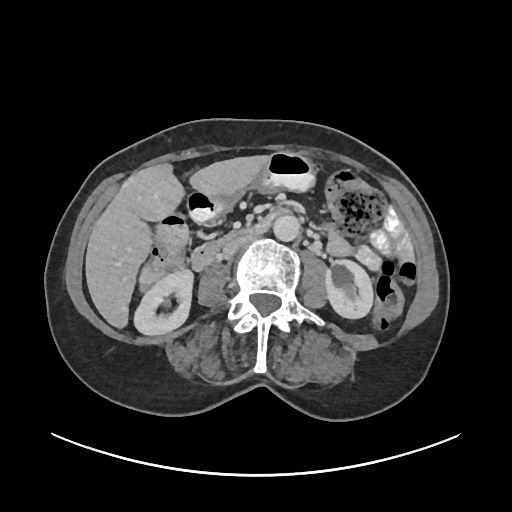Lesion: (326, 259, 359, 294)
